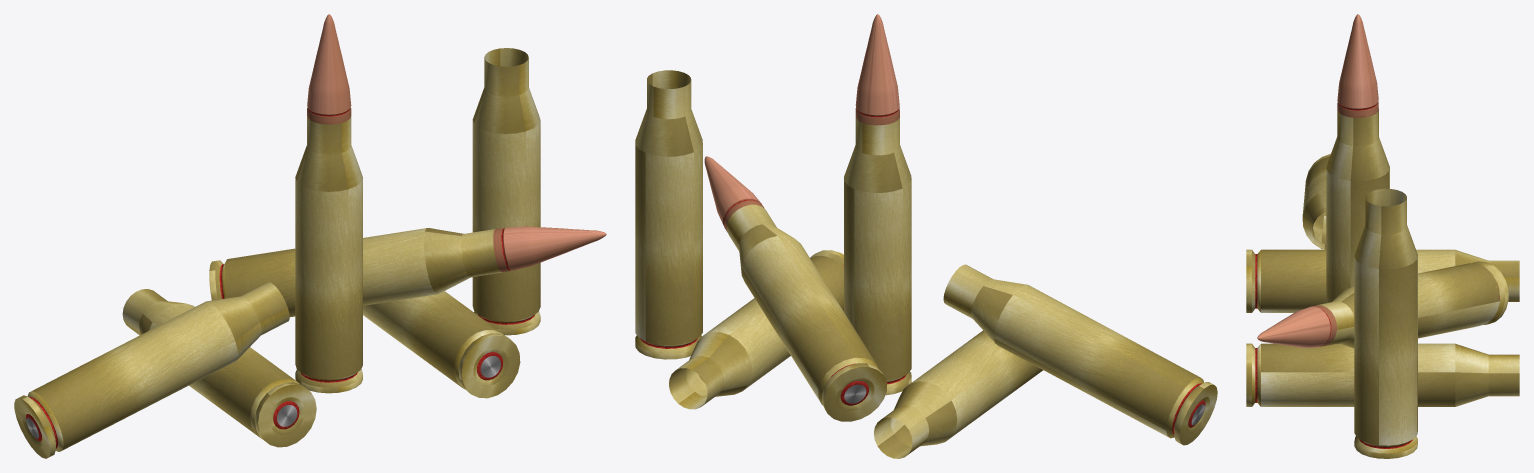
Rendered from Bullets.fbx.
3 views of the same model, side by side, from view 1: azimuth 30°, elevation 25°; view 2: azimuth 150°, elevation 25°; view 3: azimuth 270°, elevation 25° (orthographic). The views are drawn at different scales.
Parts seen in each view (by area): view 1: pCylinder3, pCylinder1, pCylinder5, polySurface1, pCylinder4, pCylinder2, pCylinder8; view 2: pCylinder3, pCylinder5, polySurface1, pCylinder1, pCylinder2, pCylinder4, pCylinder8; view 3: pCylinder5, pCylinder4, polySurface1, pCylinder1, pCylinder2, pCylinder8, pCylinder3.
Part boxes in pixels (box(x1,y1,x2,y2)): pCylinder3: box(14, 282, 289, 458); pCylinder1: box(295, 116, 362, 393); pCylinder5: box(472, 48, 540, 335); polySurface1: box(209, 226, 606, 317); pCylinder4: box(363, 291, 520, 398); pCylinder2: box(122, 289, 316, 447); pCylinder8: box(307, 14, 351, 124); pCylinder3: box(943, 264, 1217, 445); pCylinder5: box(635, 70, 702, 359); polySurface1: box(704, 156, 886, 421); pCylinder1: box(844, 116, 911, 395); pCylinder2: box(874, 330, 1042, 458); pCylinder4: box(669, 250, 843, 409); pCylinder8: box(855, 14, 899, 125); pCylinder5: box(1354, 188, 1417, 458); pCylinder4: box(1246, 343, 1519, 406); polySurface1: box(1257, 261, 1508, 348); pCylinder1: box(1326, 108, 1389, 343); pCylinder2: box(1246, 249, 1519, 312); pCylinder8: box(1337, 14, 1378, 117); pCylinder3: box(1302, 153, 1330, 250).
Bounding box in the file's own units: 37.29 × 24.1 × 17.42.
5 materials, 4 textured.
